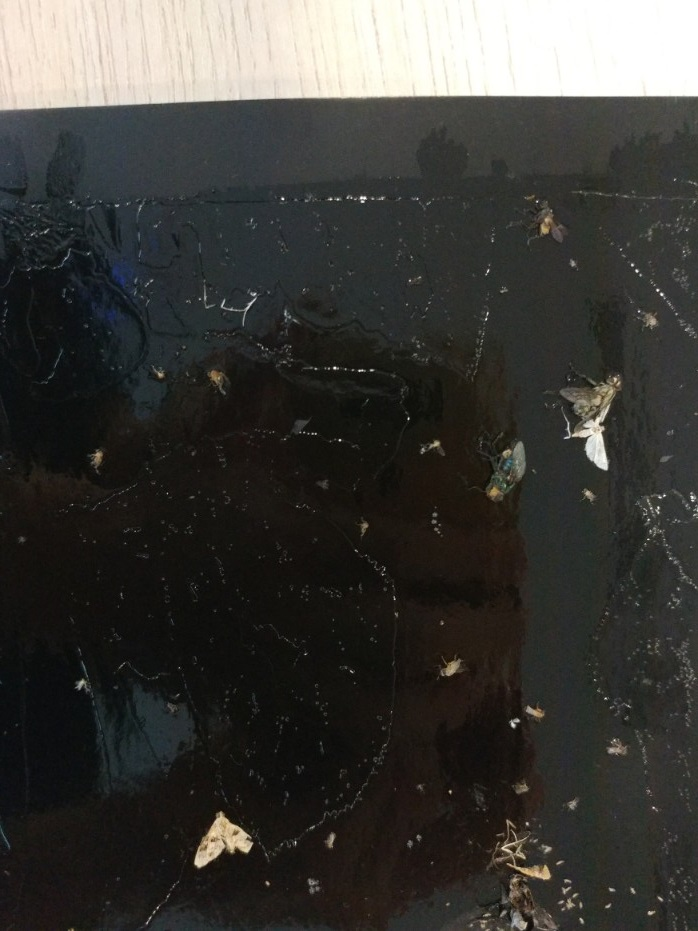house fly: (547, 362, 630, 472), (469, 430, 531, 516)
moth: (181, 807, 266, 881)
